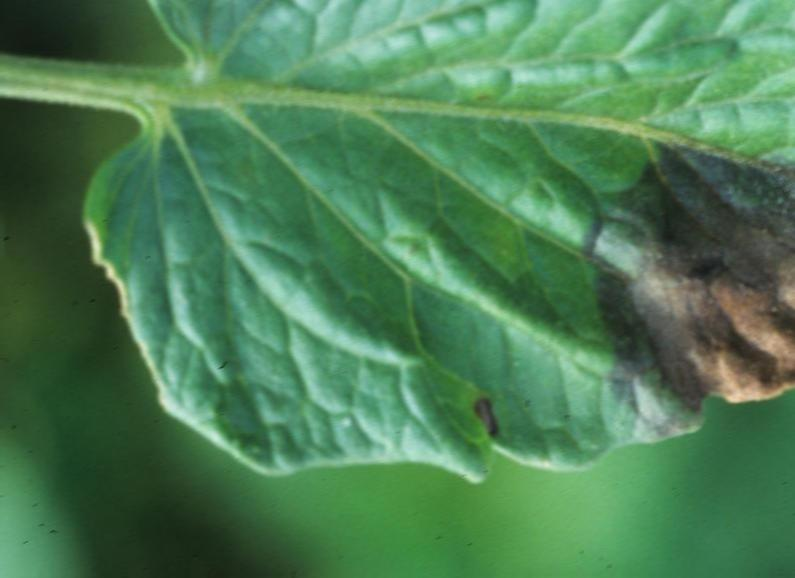Tomato leaf late blight: (60, 0, 795, 529)
